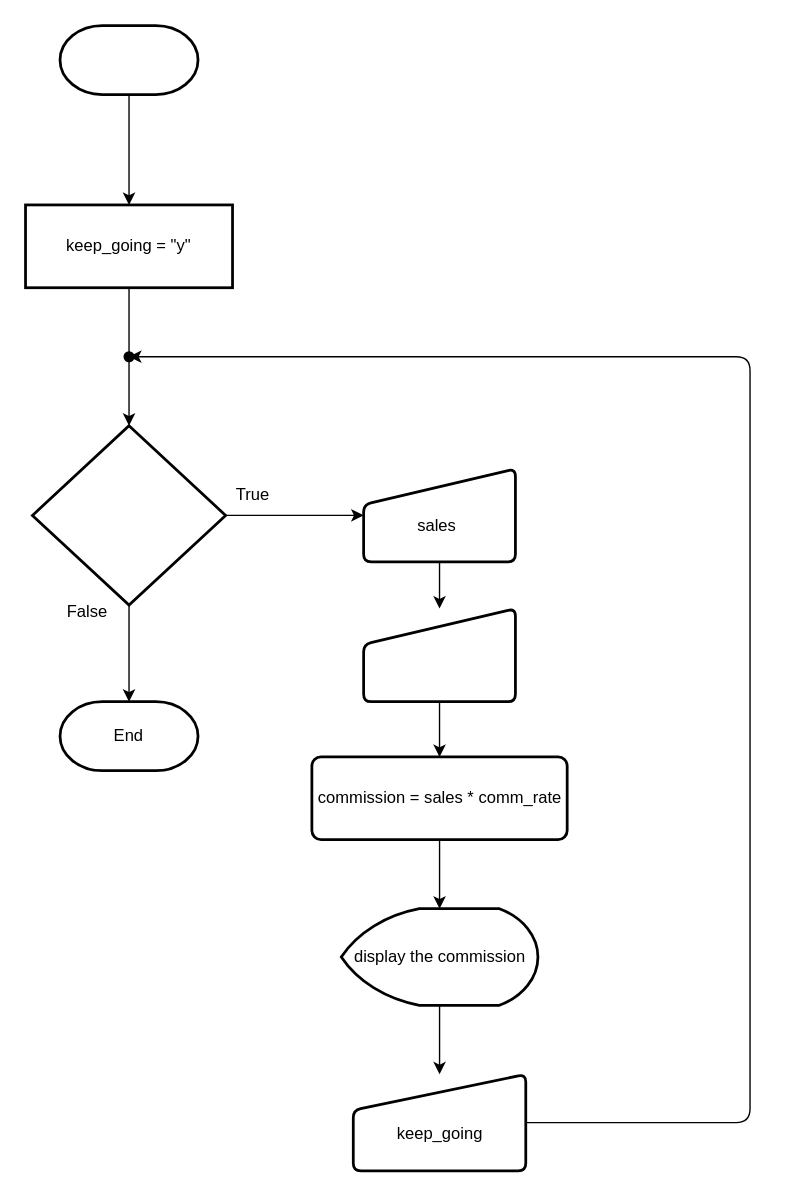
Image size: 785x1195. Some labels were removed from this diagram. Each missing label, with the centre of its shape:
comm_rate: pixel 439 654
keep_going == "y": pixel 128 515
Start: pixel 128 59
